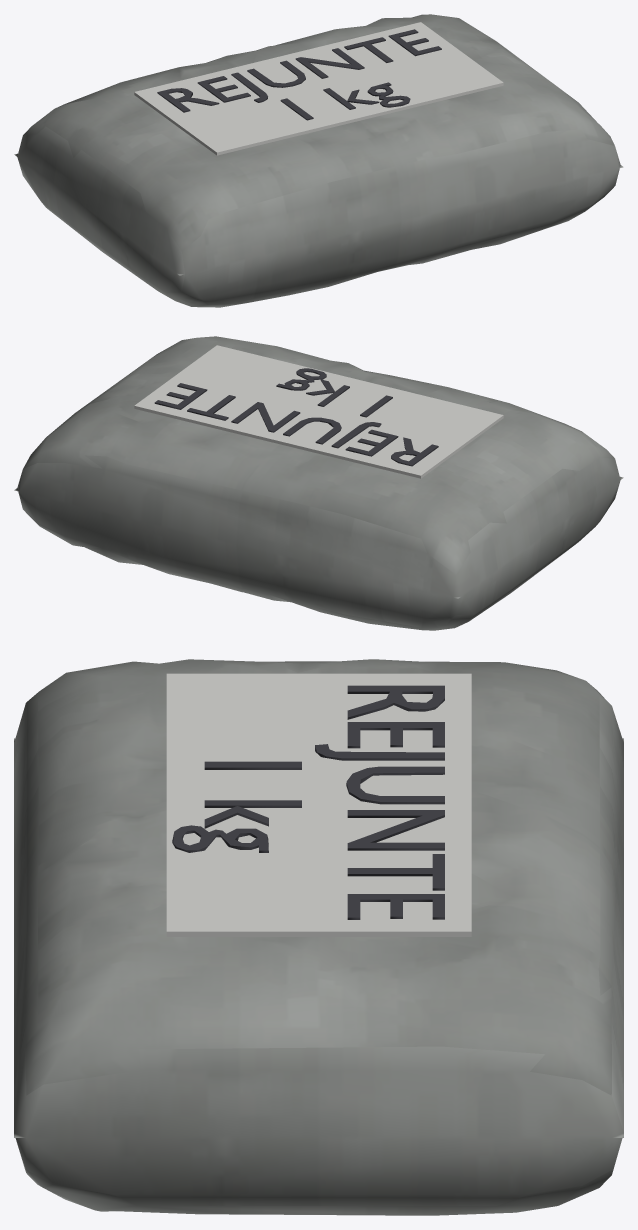
Rendered from REV-COL-004_lod1.glb.
3 renders of one model, top to bottom at view 1: azimuth 30°, elevation 25°; view 2: azimuth 150°, elevation 25°; view 3: azimuth 270°, elevation 25°, orthographic. The views are drawn at different scales.
Visible parts, largest first — view 1: REV-COL-004_saco, REV-COL-004_faixa, REV-COL-004_texto; view 2: REV-COL-004_saco, REV-COL-004_faixa, REV-COL-004_texto; view 3: REV-COL-004_saco, REV-COL-004_faixa, REV-COL-004_texto.
Boxes of the visible parts, x1,y1,x2,y2 form: REV-COL-004_saco: (14, 14, 623, 307); REV-COL-004_faixa: (134, 22, 503, 155); REV-COL-004_texto: (157, 29, 441, 120); REV-COL-004_saco: (14, 336, 623, 630); REV-COL-004_faixa: (134, 345, 503, 478); REV-COL-004_texto: (154, 368, 438, 466); REV-COL-004_saco: (14, 659, 623, 1215); REV-COL-004_faixa: (166, 673, 471, 936); REV-COL-004_texto: (172, 685, 444, 919).
Bounding box in the file's own units: 0.186 × 0.0583 × 0.12.
Materials: 3 (1 with a texture image).
